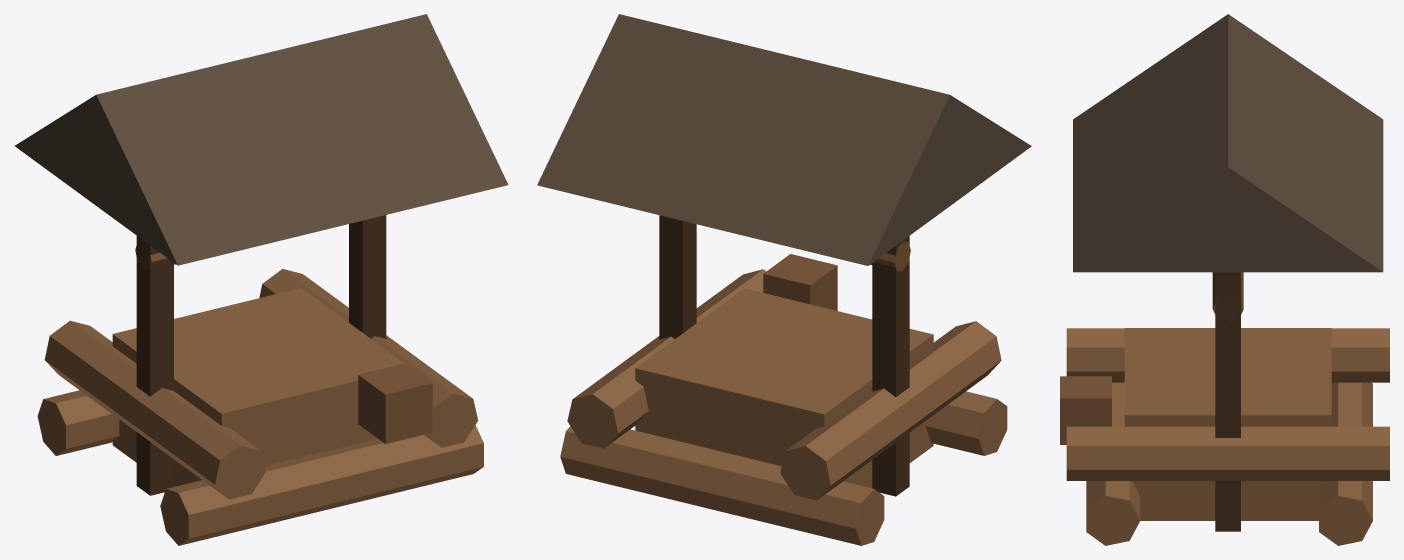
Rendered from well.glb.
The picture shows the model from 3 angles, left to right: view 1: azimuth 30°, elevation 25°; view 2: azimuth 150°, elevation 25°; view 3: azimuth 270°, elevation 25°; orthographic projection. The views are drawn at different scales.
Parts seen in each view (by area): view 1: Well; view 2: Well; view 3: Well.
Part boxes in pixels (x1,y1,x2,y2): Well: (15,14,508,545); Well: (537,14,1031,545); Well: (1060,14,1389,545).
Size of the model in its own units: 2.8 by 3.3 by 2.55.
